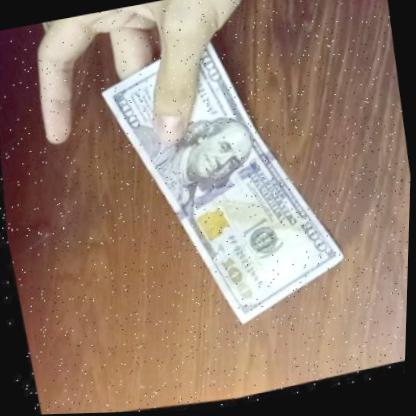one_hundred-front: (51, 0, 386, 370)
